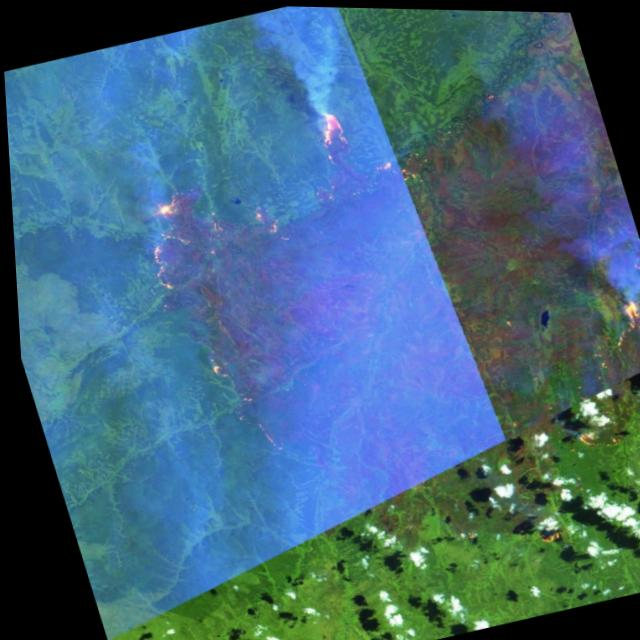fire: (107, 171, 238, 305), (285, 85, 371, 176), (575, 262, 640, 366)
